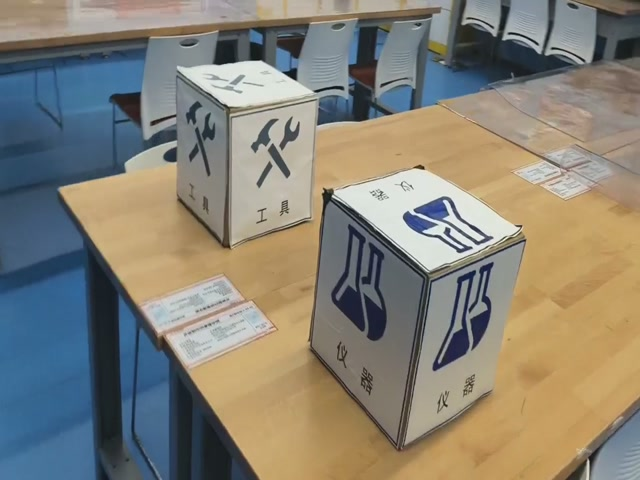Cube_ins: (325, 165, 530, 274)
Cube_tool: (178, 61, 317, 111)
